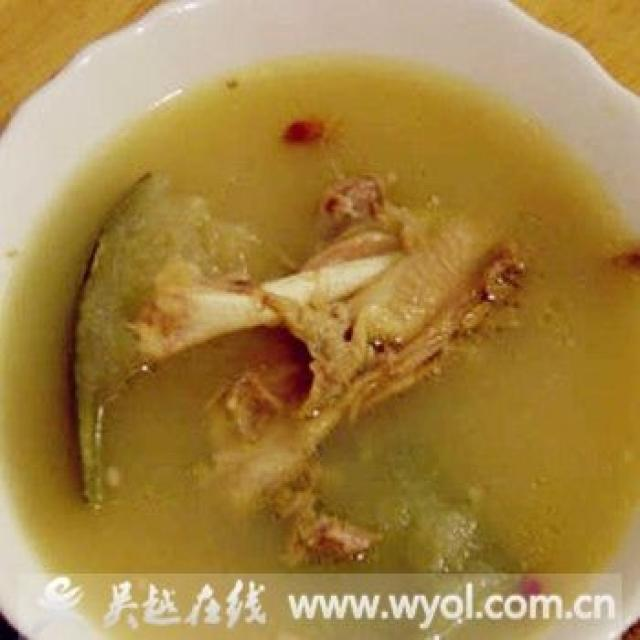汤锅炖物: (22, 20, 620, 612)
